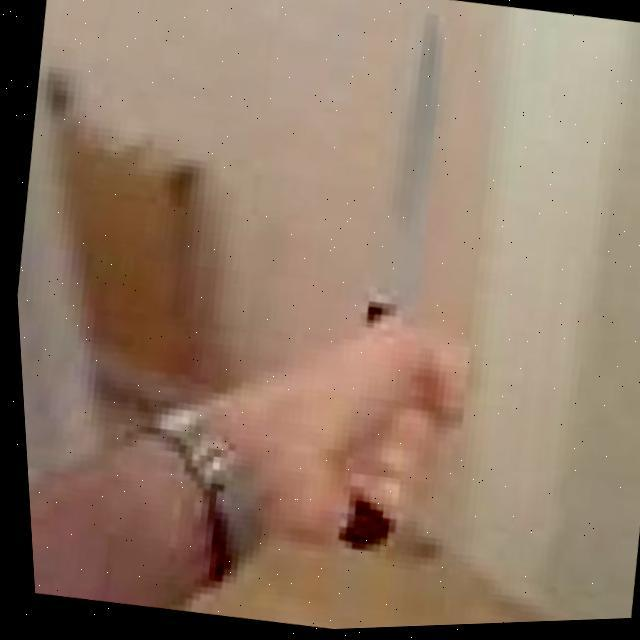knife: (307, 12, 479, 563)
